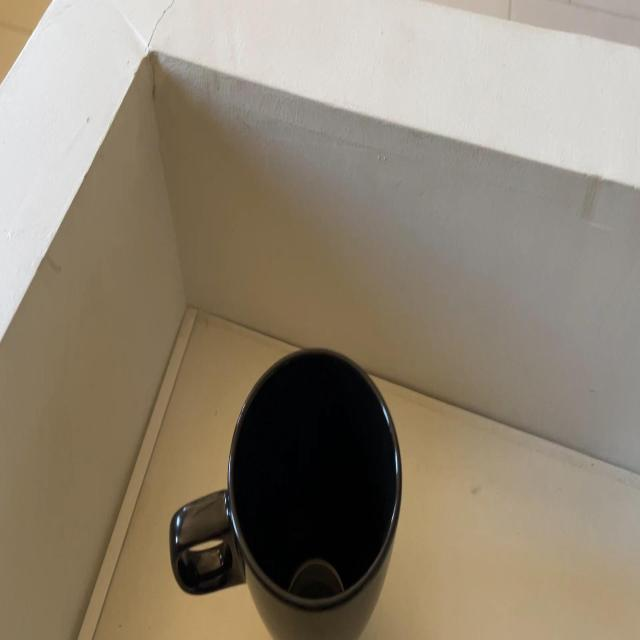cup: (169, 345, 403, 639)
